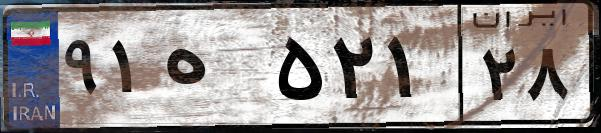1: (385, 28, 445, 110), (110, 28, 158, 98)
2: (330, 28, 385, 110), (475, 38, 525, 113)
5: (270, 28, 330, 110)
8: (525, 38, 570, 115)
9: (57, 26, 110, 100)
ه: (158, 20, 270, 120)
